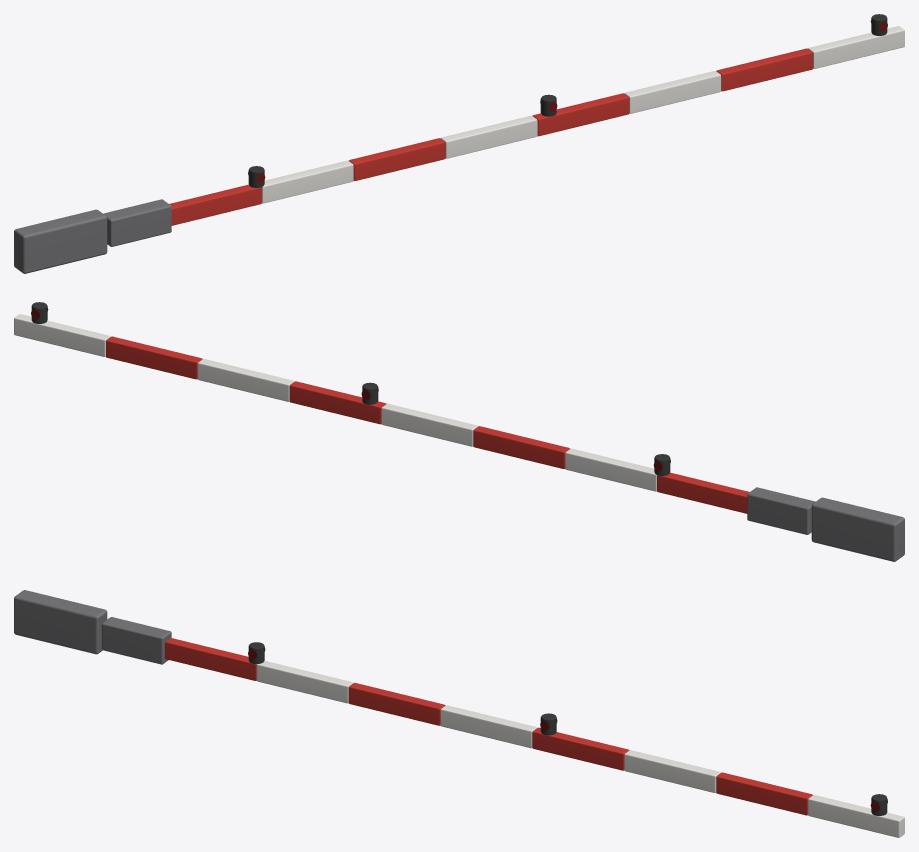
The model's file is rail.crossing.boom_5.glb.
3 views of the same model, one above another, from view 1: azimuth 30°, elevation 25°; view 2: azimuth 150°, elevation 25°; view 3: azimuth 330°, elevation 25° (orthographic).
Parts seen in each view (by area): view 1: main__paint_eee, main__paint_c33, main__galv_777, main__paint_333; view 2: main__paint_eee, main__paint_c33, main__galv_777, main__paint_333; view 3: main__paint_eee, main__paint_c33, main__galv_777, main__paint_333.
Boxes of the visible parts, x1,y1,x2,y2 form: main__paint_eee: (261,26,904,203); main__paint_c33: (169,48,812,225); main__galv_777: (14,199,171,273); main__paint_333: (248,14,887,187); main__paint_eee: (14,314,657,491); main__paint_c33: (106,336,749,513); main__galv_777: (747,487,904,561); main__paint_333: (31,302,670,475); main__paint_eee: (256,660,904,837); main__paint_c33: (165,638,812,815); main__galv_777: (14,590,171,664); main__paint_333: (248,642,887,815).
Bounding box in the file's own units: 5.75 × 0.275 × 0.12.
